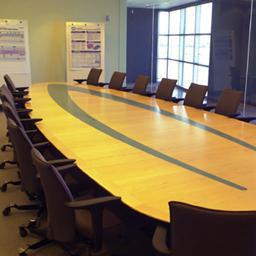Ventana: (157, 12, 209, 94)
